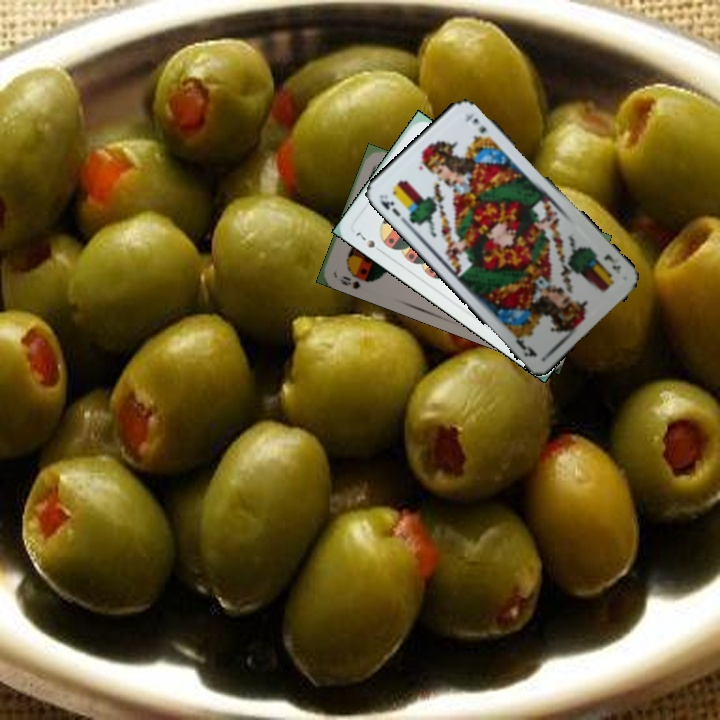EK: (375, 194, 403, 219), (599, 250, 624, 276)
S7: (351, 226, 386, 255)
SO: (336, 272, 363, 292)
